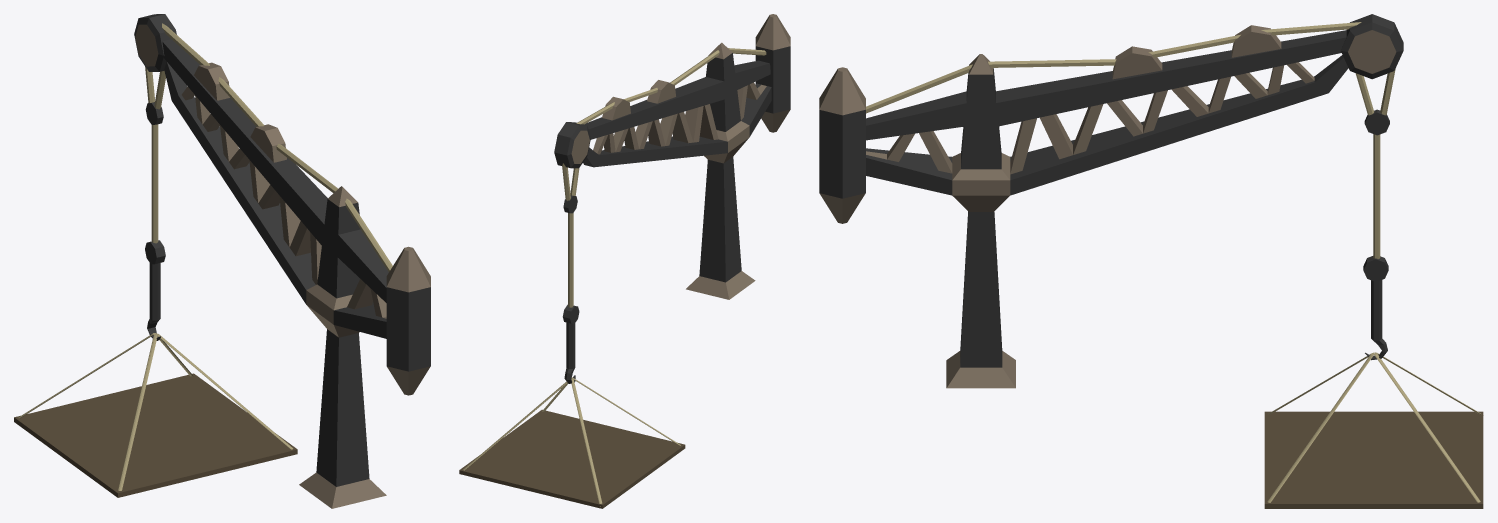
File: steampunk_crane.fbx
3 views of the same model, side by side, from view 1: azimuth 30°, elevation 25°; view 2: azimuth 150°, elevation 25°; view 3: azimuth 270°, elevation 25° (orthographic). The views are drawn at different scales.
Parts seen in each view (by area): view 1: Crane_Base, Crane_Platform, Crane_RPulley, Crane_Rope_hold, Crane_Wheel, Crane_Hook, Crane_Rope; view 2: Crane_Base, Crane_Platform, Crane_RPulley, Crane_Wheel, Crane_Rope_hold, Crane_Hook, Crane_Rope; view 3: Crane_Base, Crane_Platform, Crane_RPulley, Crane_Wheel, Crane_Rope_hold, Crane_Hook, Crane_Rope.
Boxes of the visible parts, <box> form: Crane_Base: <box>162,39,430,508</box>; Crane_Platform: <box>14,373,297,497</box>; Crane_RPulley: <box>145,23,392,271</box>; Crane_Rope_hold: <box>18,333,293,490</box>; Crane_Wheel: <box>134,14,176,71</box>; Crane_Hook: <box>145,240,165,340</box>; Crane_Rope: <box>151,124,158,243</box>; Crane_Base: <box>583,14,790,299</box>; Crane_Platform: <box>459,409,685,508</box>; Crane_RPulley: <box>562,48,766,213</box>; Crane_Wheel: <box>554,122,590,168</box>; Crane_Rope_hold: <box>463,377,680,506</box>; Crane_Hook: <box>562,304,579,383</box>; Crane_Rope: <box>568,213,573,307</box>; Crane_Base: <box>819,25,1348,388</box>; Crane_Platform: <box>1264,411,1483,508</box>; Crane_RPulley: <box>866,22,1395,135</box>; Crane_Wheel: <box>1341,14,1403,79</box>; Crane_Rope_hold: <box>1267,352,1483,502</box>; Crane_Hook: <box>1363,256,1388,360</box>; Crane_Rope: <box>1373,134,1380,258</box>.
Size of the model in its own units: 2.6 by 5.84 by 7.9.
